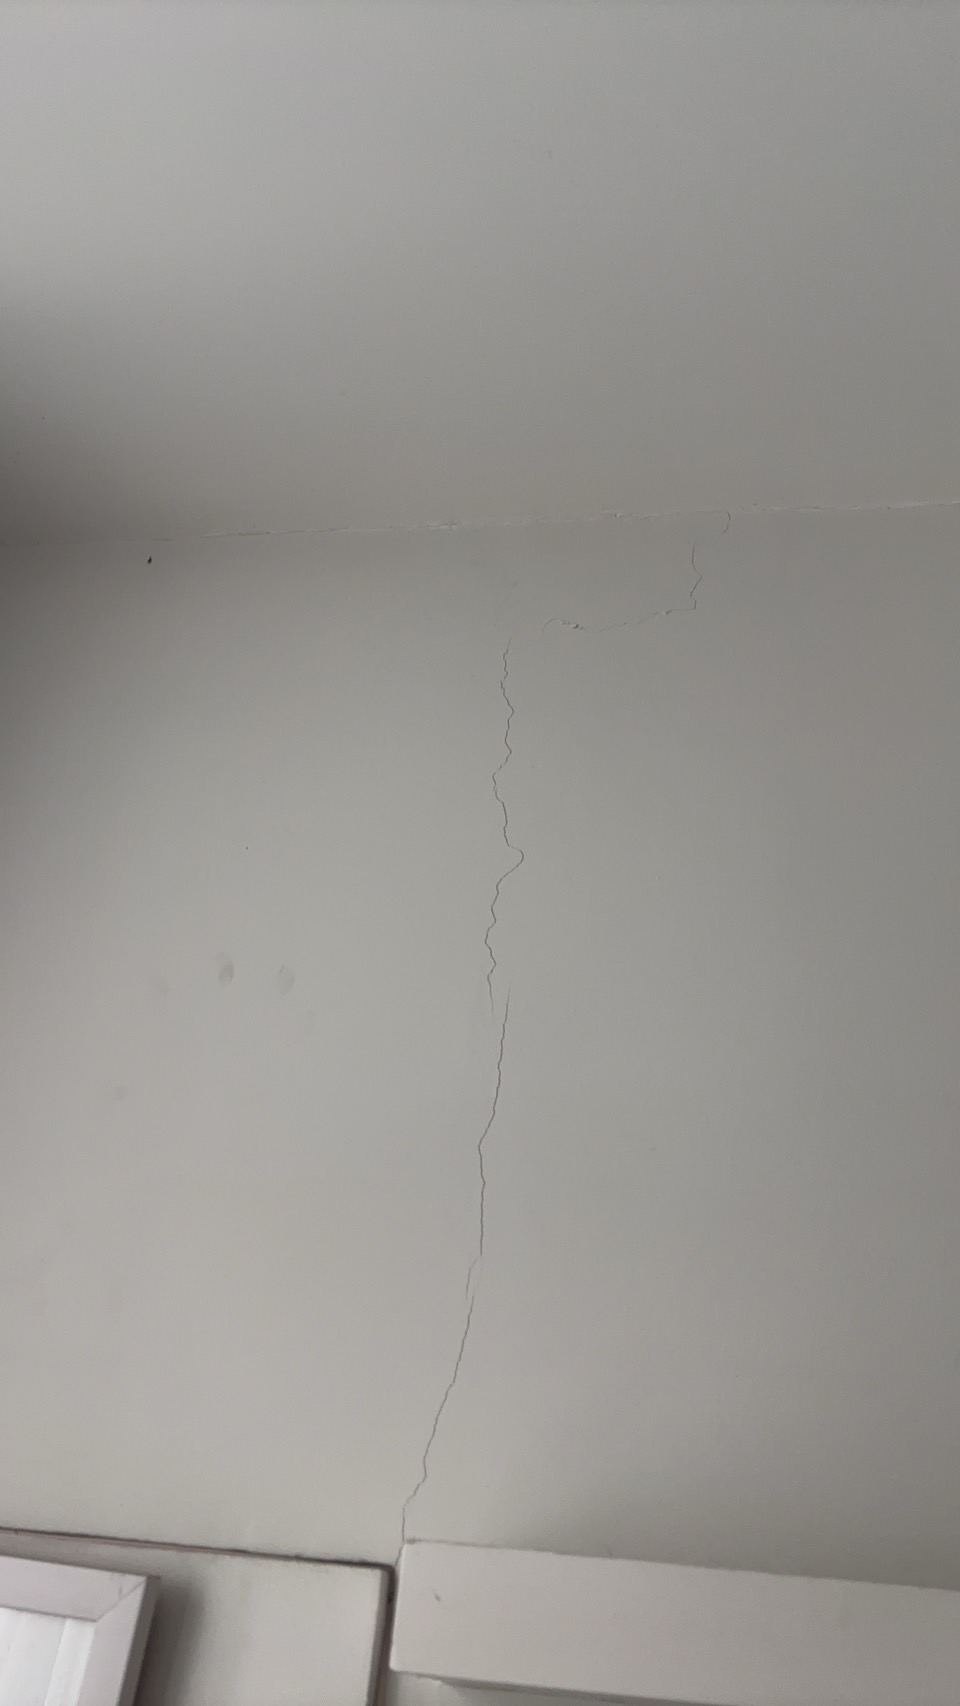Low: (374, 509, 769, 1567)
